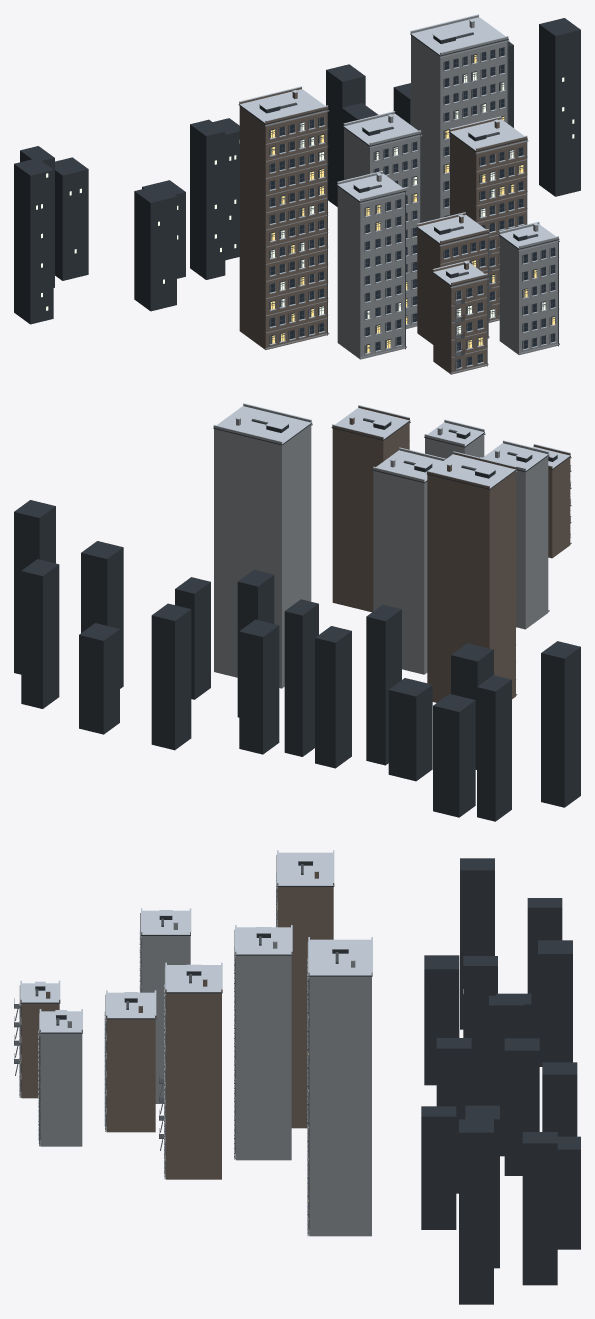
The model's file is winter-city.glb.
3 renders of one model, top to bottom at view 1: azimuth 30°, elevation 25°; view 2: azimuth 150°, elevation 25°; view 3: azimuth 270°, elevation 25°, orthographic. The views are drawn at different scales.
Visible parts, largest first — view 1: Winter dark roof, Winter limestone, Winter masonry, Winter snow, Winter glass, Winter metal, Window ivory, Window amber, Window shade; view 2: Winter dark roof, Winter limestone, Winter masonry, Winter snow; view 3: Winter dark roof, Winter limestone, Winter masonry, Winter snow, Winter metal.
Boxes of the visible parts, x1,y1,x2,y2 form: Winter dark roof: (14, 18, 580, 368); Winter limestone: (265, 15, 559, 373); Winter masonry: (239, 87, 527, 374); Winter snow: (239, 14, 558, 369); Winter glass: (270, 48, 554, 368); Winter metal: (270, 32, 559, 370); Window ivory: (36, 72, 574, 333); Window amber: (271, 55, 554, 352); Window shade: (270, 55, 554, 353); Winter dark roof: (14, 420, 580, 821); Winter limestone: (213, 404, 571, 695); Winter masonry: (332, 406, 570, 702); Winter snow: (213, 403, 570, 488); Winter dark roof: (20, 858, 580, 1304); Winter limestone: (19, 855, 372, 1236); Winter masonry: (20, 872, 334, 1179); Winter snow: (19, 850, 372, 1229); Winter metal: (14, 864, 338, 1235).
Bounding box in the file's own units: 97.34 × 42.44 × 81.2.
